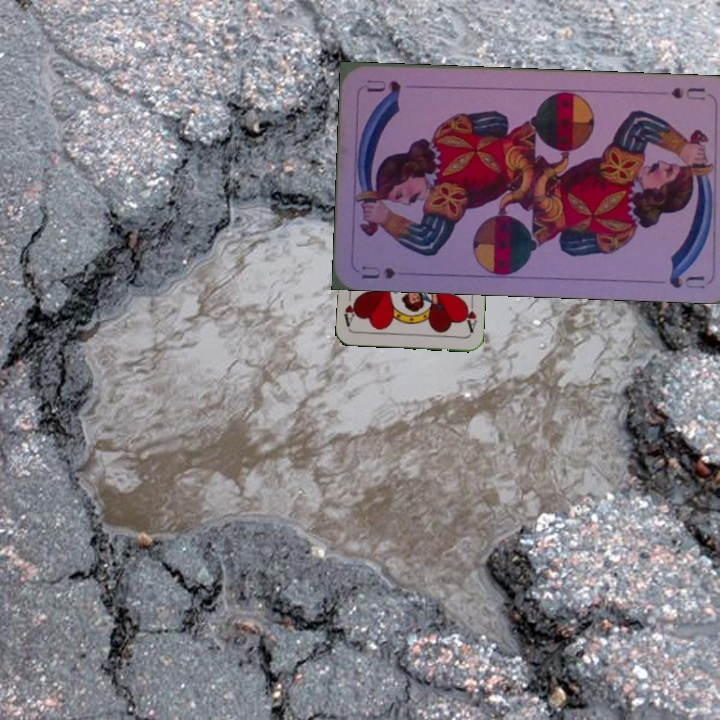HA: (460, 295, 479, 336)
SU: (357, 262, 398, 282), (667, 83, 708, 103)
